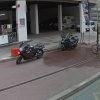Motorcycle: (9, 39, 55, 64)
